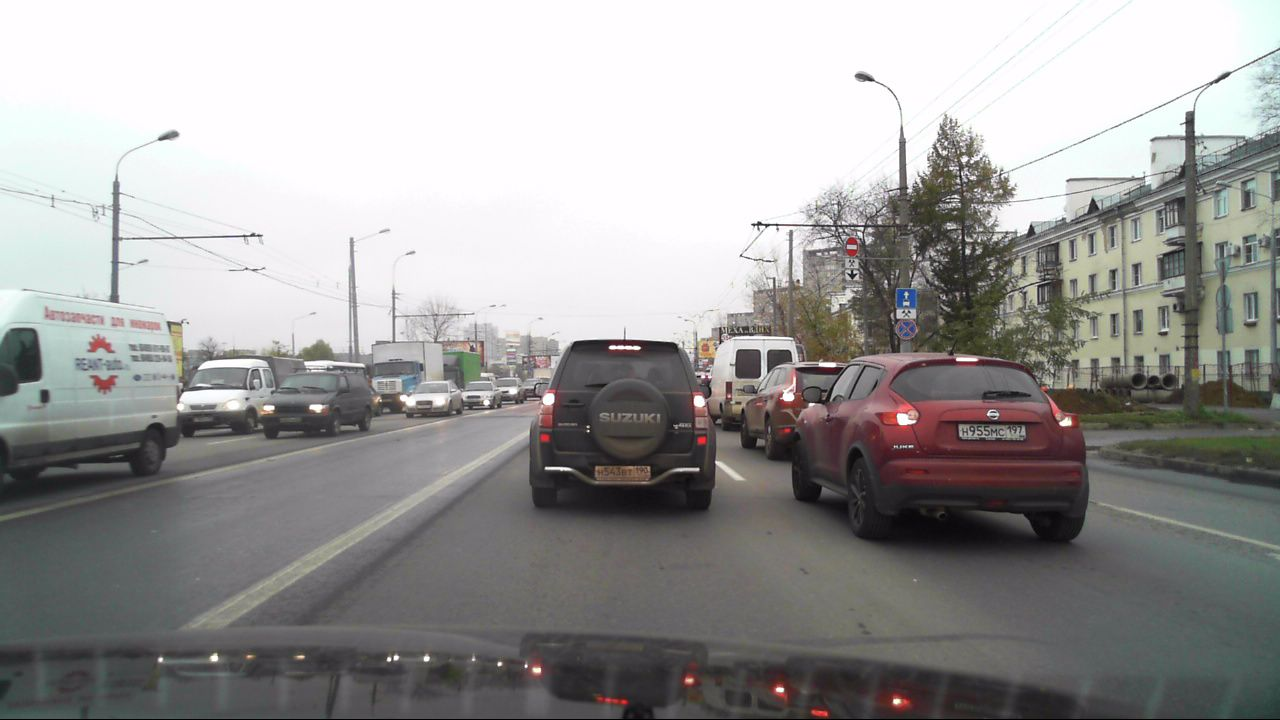No Parking: (896, 319, 916, 340)
